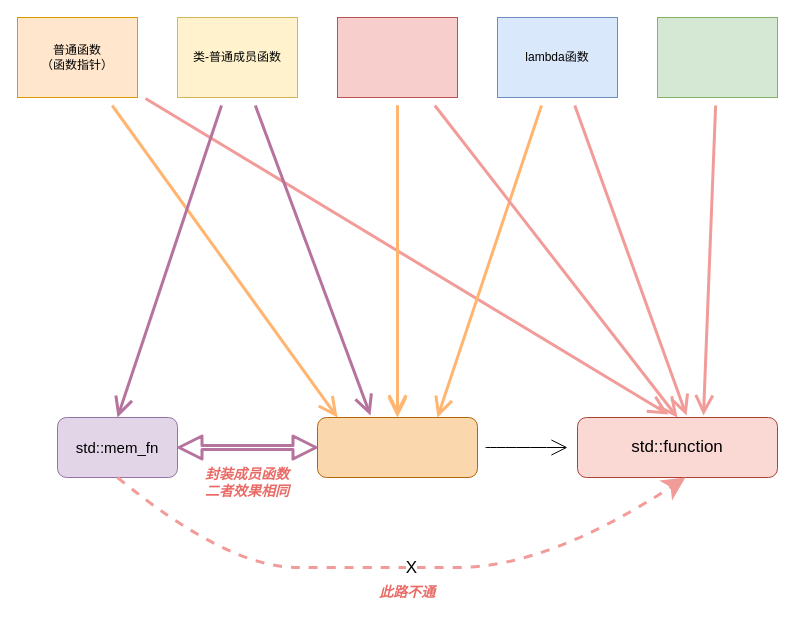
Some shapes in this 795 by 625 pixel diagram are drawn without their labels. The shapes that lost their labels are listed below. From the top down, each one's centre as x and y in pixels, then its label:
pixel 397 57: 类-静态成员函数
pixel 717 57: 仿函数
pixel 397 447: std::bind
